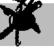not correct: (0, 0, 48, 46)
